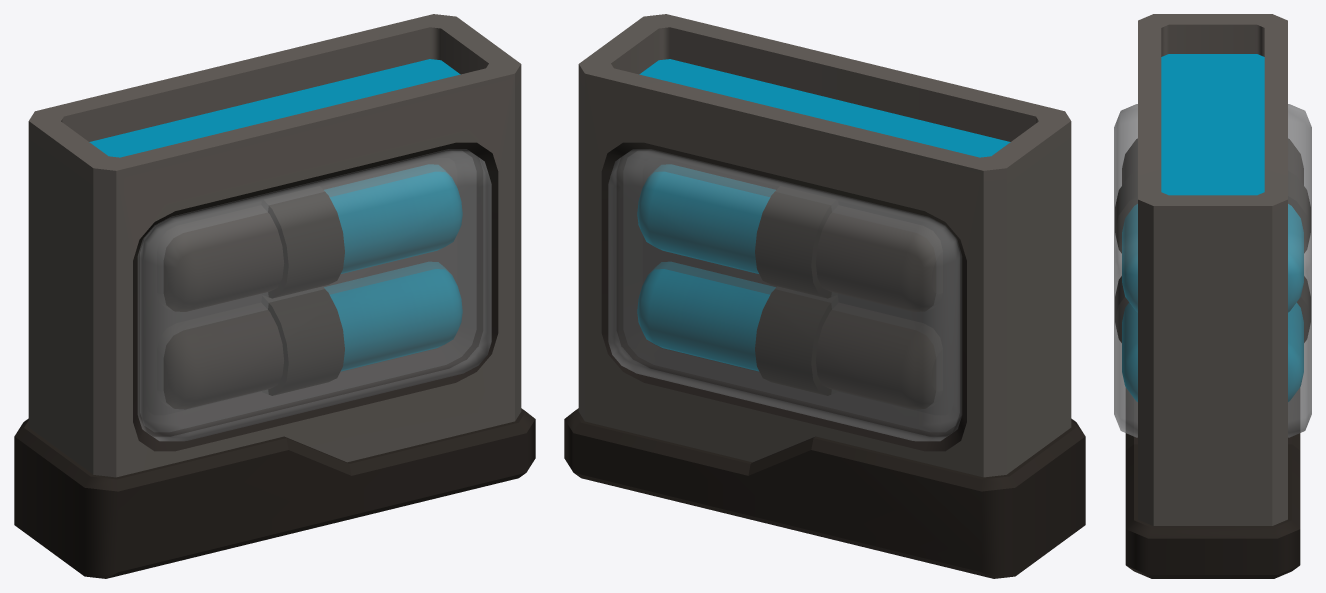
File: AR4_MagazineExtended.fbx
3 views of the same model, side by side, from view 1: azimuth 30°, elevation 25°; view 2: azimuth 150°, elevation 25°; view 3: azimuth 270°, elevation 25° (orthographic). The views are drawn at different scales.
Parts seen in each view (by area): view 1: AR4_MagazineExtended; view 2: AR4_MagazineExtended; view 3: AR4_MagazineExtended.
Boxes of the visible parts, x1,y1,x2,y2 form: AR4_MagazineExtended: [14, 14, 535, 578]; AR4_MagazineExtended: [564, 14, 1085, 578]; AR4_MagazineExtended: [1114, 14, 1311, 578].
Bounding box in the file's own units: 10.51 × 8.98 × 4.34.
